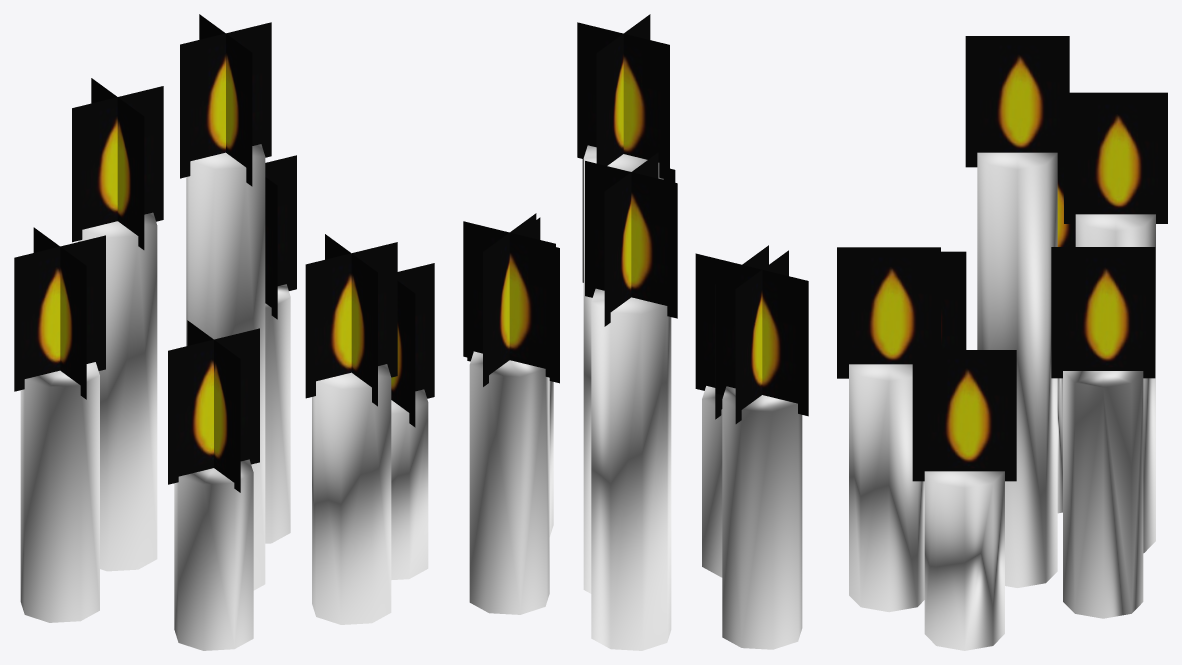
The model's file is Candles.gltf.
3 renders of one model, left to right at view 1: azimuth 30°, elevation 25°; view 2: azimuth 150°, elevation 25°; view 3: azimuth 270°, elevation 25°, orthographic. The views are drawn at different scales.
Visible parts, largest first — view 1: Candles, CandleFlames; view 2: Candles, CandleFlames; view 3: Candles, CandleFlames.
Boxes of the visible parts, x1,y1,x2,y2 form: Candles: (20, 144, 428, 650); CandleFlames: (14, 14, 434, 492); Candles: (469, 145, 802, 650); CandleFlames: (463, 14, 808, 423); Candles: (849, 152, 1155, 650); CandleFlames: (837, 36, 1167, 481).
Size of the model in its own units: 1.4 by 1.93 by 1.08.
2 materials, 1 textured.
